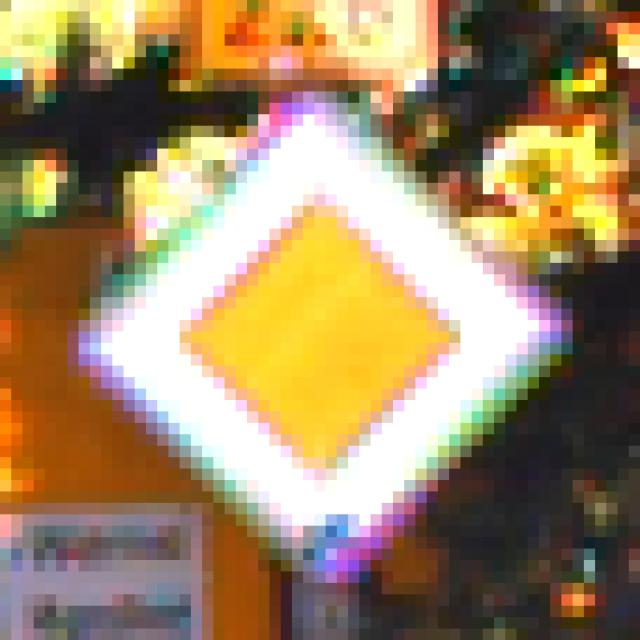Main Road: (57, 58, 585, 584)
